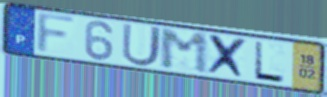6: (83, 19, 115, 62)
F: (34, 11, 80, 56)
L: (252, 39, 287, 85)
M: (157, 27, 212, 76)
U: (120, 22, 164, 69)
X: (204, 32, 249, 82)
